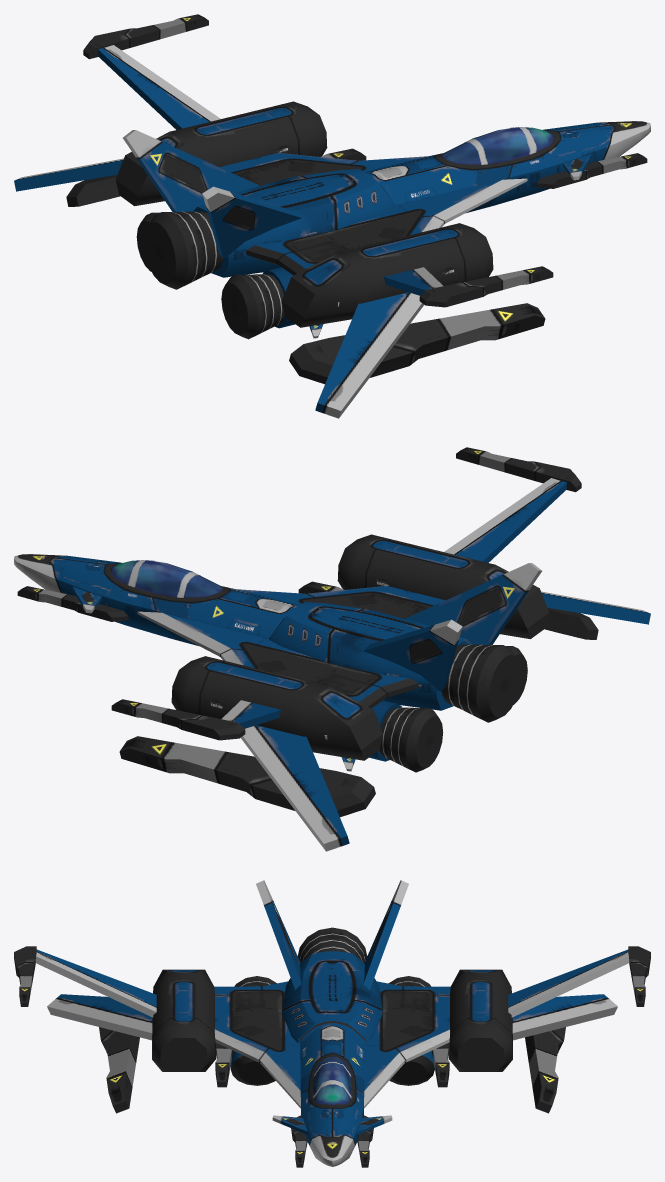
File: ship.obj
The picture shows the model from 3 angles, top to bottom: view 1: azimuth 30°, elevation 25°; view 2: azimuth 150°, elevation 25°; view 3: azimuth 270°, elevation 25°; orthographic projection. The views are drawn at different scales.
Visible parts, largest first — view 1: StarSparrow01_Mesh.038; view 2: StarSparrow01_Mesh.038; view 3: StarSparrow01_Mesh.038.
Boxes of the visible parts, left/top/right/bottom form: StarSparrow01_Mesh.038: left=14, top=14, right=650, bottom=418; StarSparrow01_Mesh.038: left=14, top=447, right=650, bottom=851; StarSparrow01_Mesh.038: left=14, top=880, right=650, bottom=1167.
Size of the model in its own units: 10.85 by 3.26 by 13.64.
Materials: 1 (1 with a texture image).
